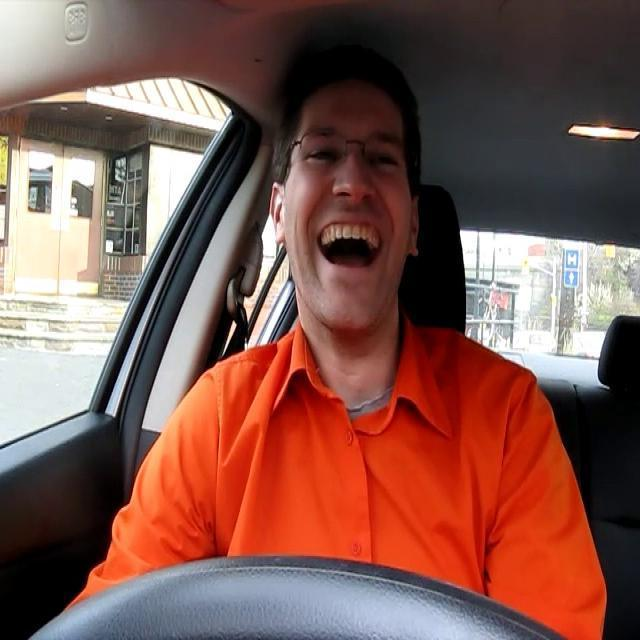open: (363, 124, 409, 180), (298, 121, 339, 176)
